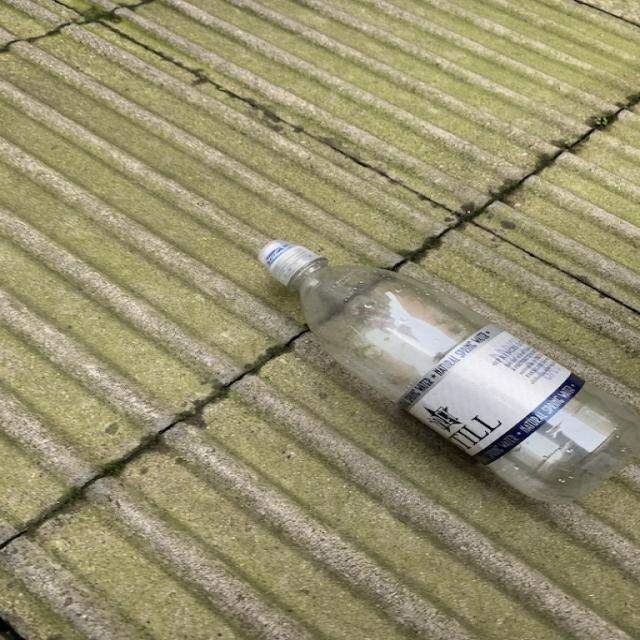Waste: (261, 241, 640, 503)
